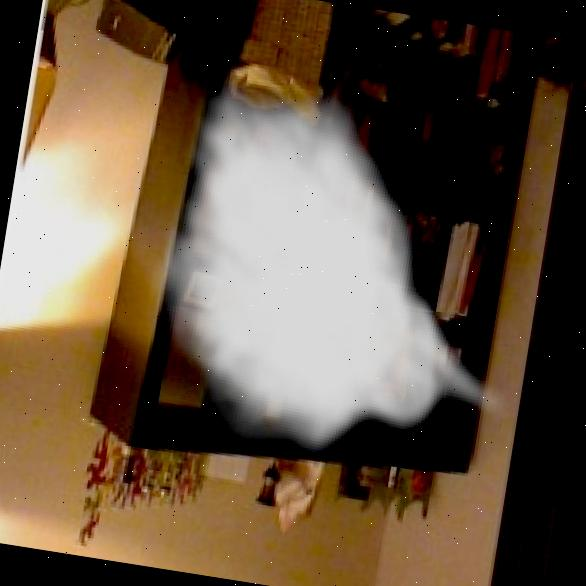smoke: (124, 53, 560, 493)
